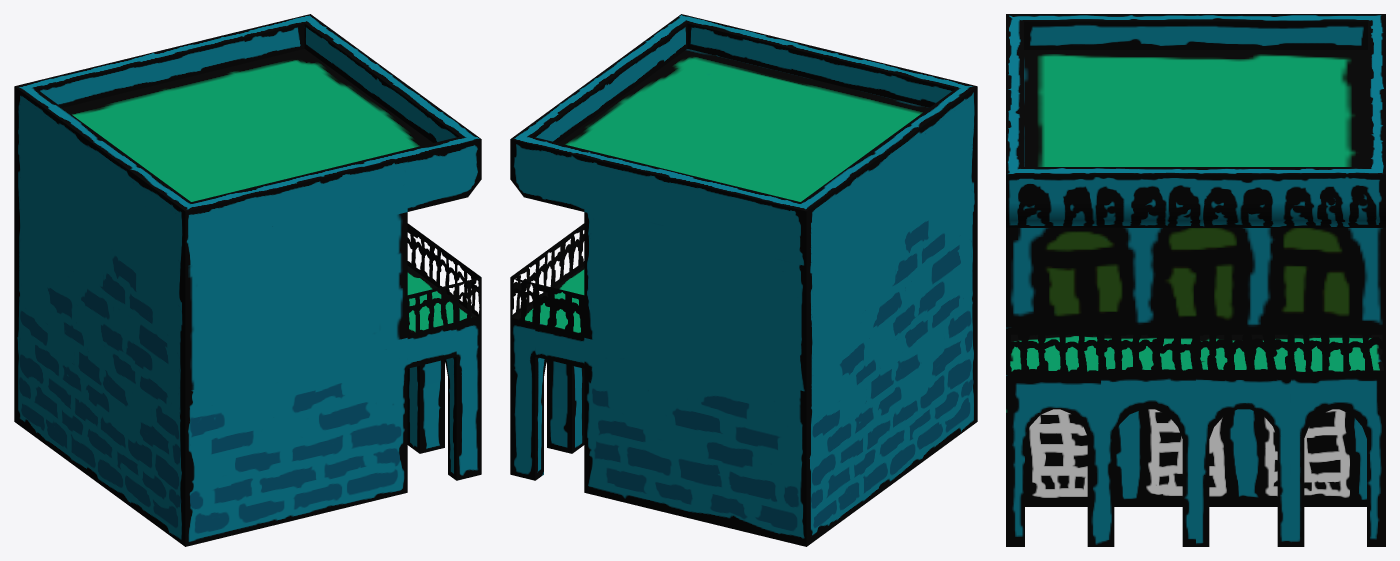
The model's file is SM_BlueBuilding1.fbx.
The picture shows the model from 3 angles, left to right: view 1: azimuth 30°, elevation 25°; view 2: azimuth 150°, elevation 25°; view 3: azimuth 270°, elevation 25°; orthographic projection. The views are drawn at different scales.
Parts seen in each view (by area): view 1: pCube4; view 2: pCube4; view 3: pCube4.
Boxes of the visible parts, box(x1,y1,x2,y2) form: pCube4: box(14, 14, 481, 546); pCube4: box(510, 14, 977, 546); pCube4: box(1006, 14, 1385, 546).
Size of the model in its own units: 400 by 433 by 400.
